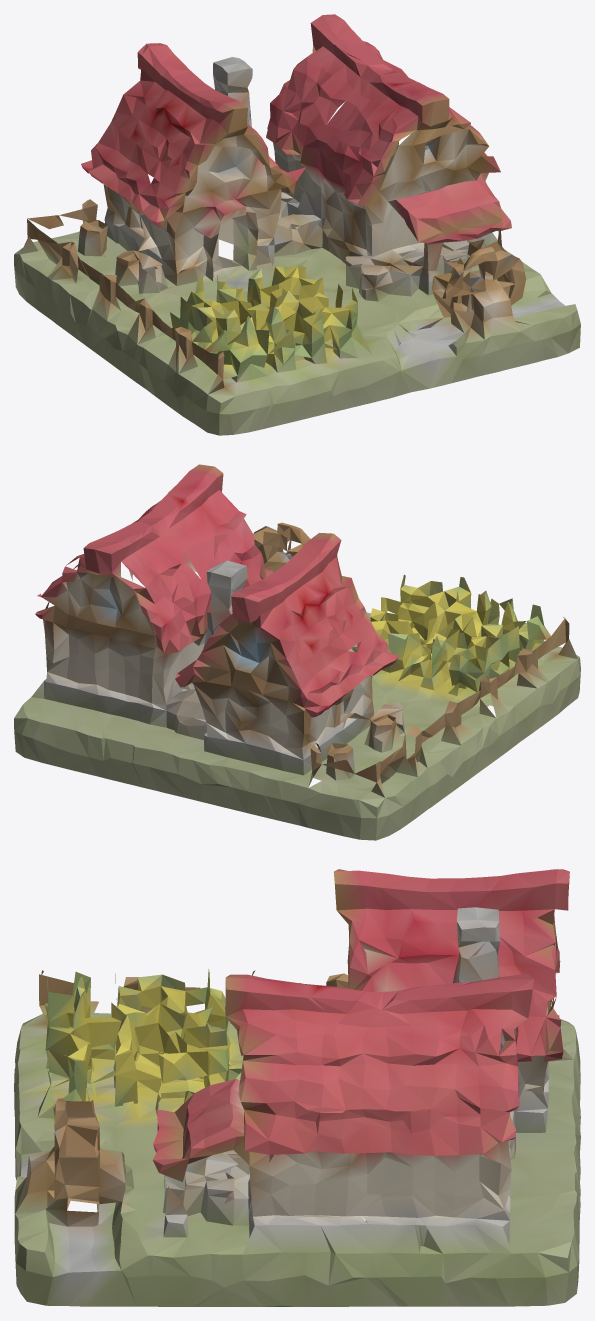
Rendered from building_farm_lod2.glb.
3 views of the same model, one above another, from view 1: azimuth 30°, elevation 25°; view 2: azimuth 150°, elevation 25°; view 3: azimuth 270°, elevation 25° (orthographic). The views are drawn at different scales.
Visible parts, largest first — view 1: world; view 2: world; view 3: world.
Boxes of the visible parts, x1,y1,x2,y2 form: world: [14, 14, 580, 435]; world: [14, 464, 580, 840]; world: [14, 869, 580, 1306].
Bounding box in the file's own units: 1.9 × 1.02 × 1.85.
